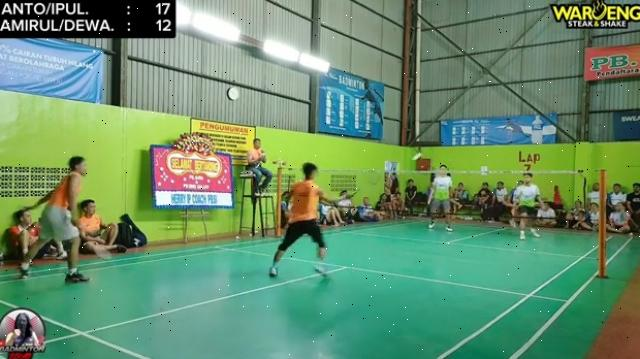Shuttlecock: (410, 150, 426, 164)
